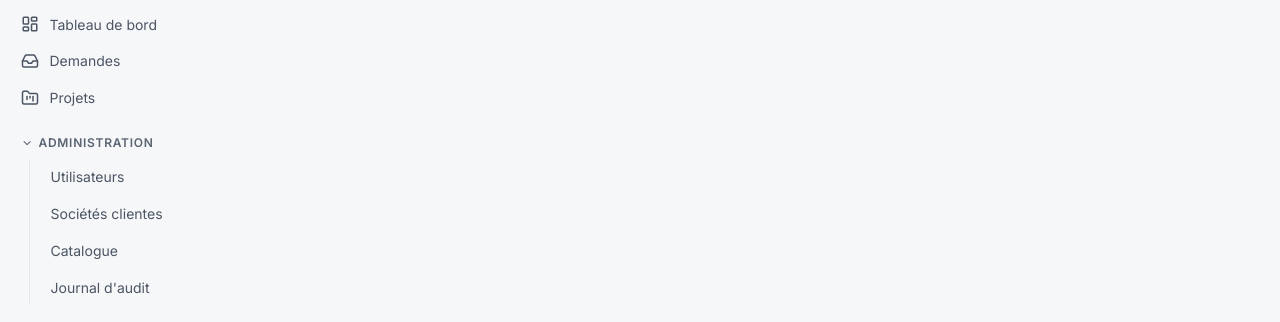
Sidebar › le groupe replié masque ses entrées, le chevron pivote
Expected: the link "Utilisateurs" is shown, x1=50 y1=168 x2=124 y2=185
Click the button "Administration" at (96, 143), box x1=10 y1=127 x2=1270 y2=159
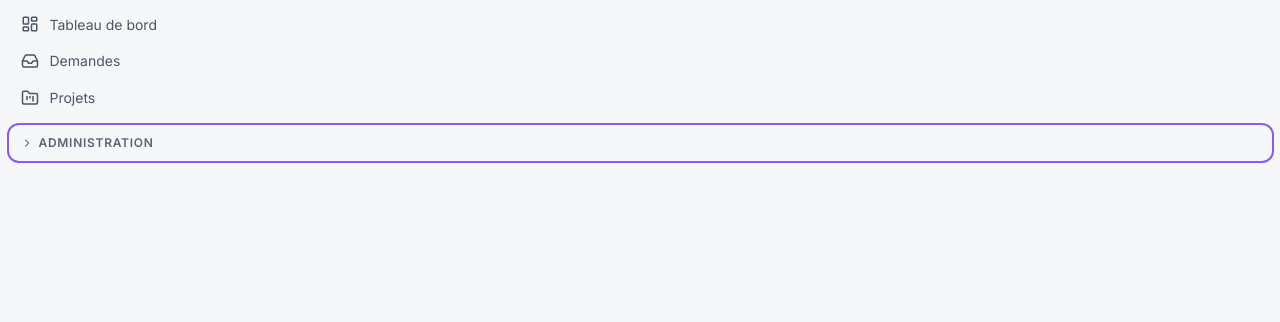
Expected: the link "Utilisateurs" is gone
